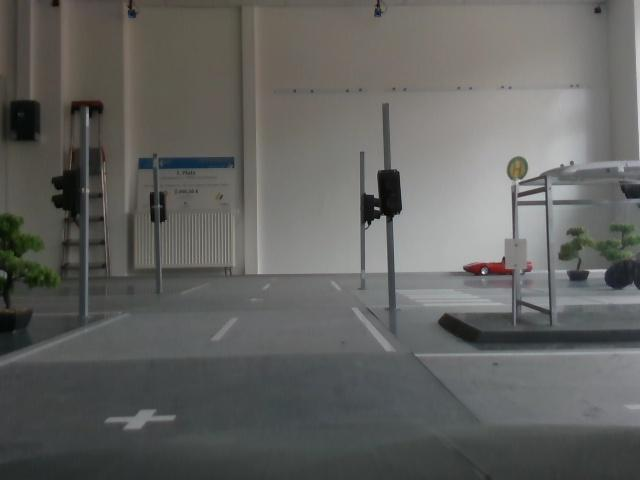car: (465, 255, 520, 277)
potted plant: (4, 215, 47, 332), (566, 226, 598, 286), (610, 226, 635, 288)
traffic light: (53, 164, 90, 229), (378, 171, 405, 219), (360, 195, 385, 223)
